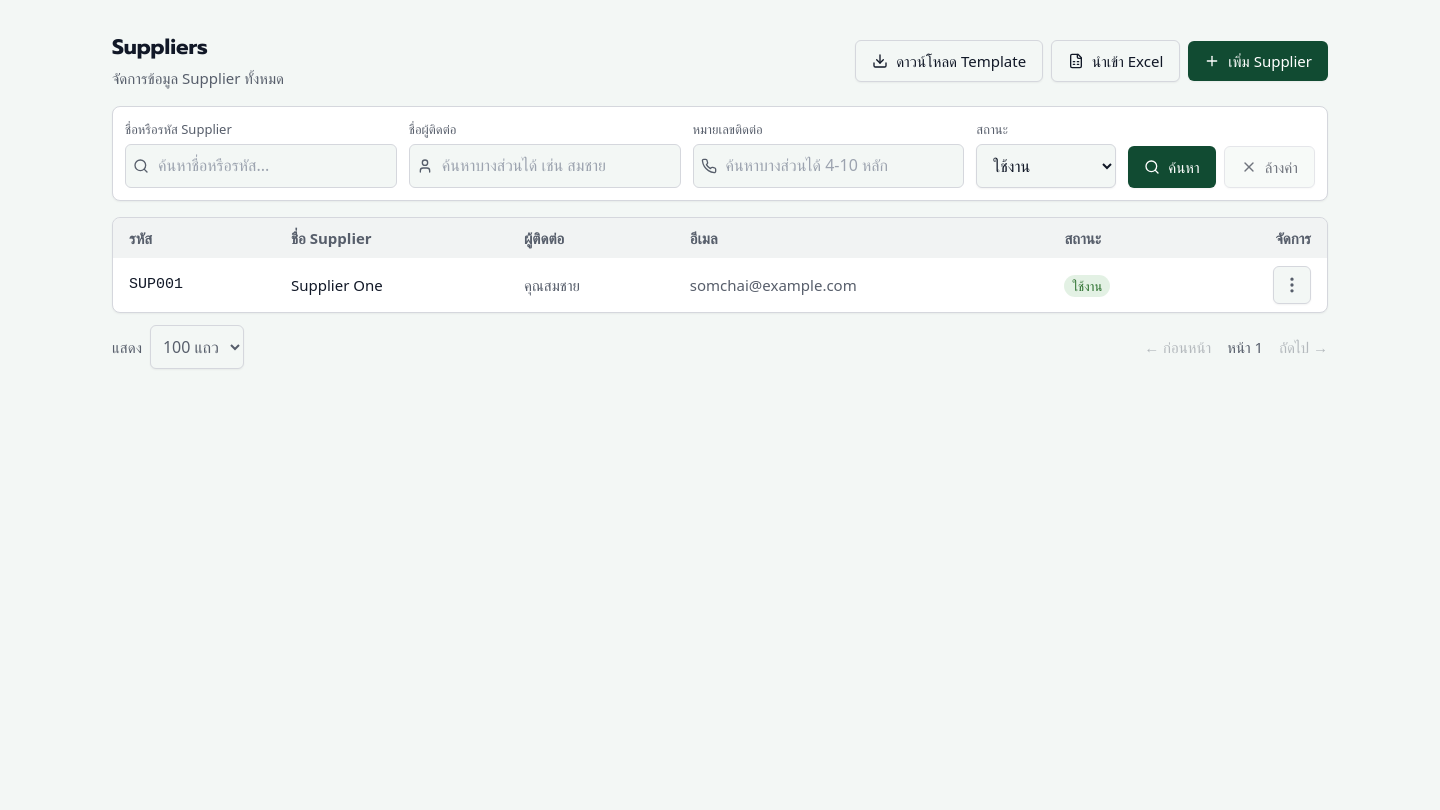
Test: Suppliers — rows-per-page selector (100 / 200 / 500 / ทั้งหมด) › pages through everything (chunked) when "ทั้งหมด" is selected
Expected: the text "SUP001" is shown, [113, 258, 275, 312]
Select "ทั้งหมด" in the dropdown labelled "แสดง". click: (197, 347)
box: [150, 325, 244, 369]
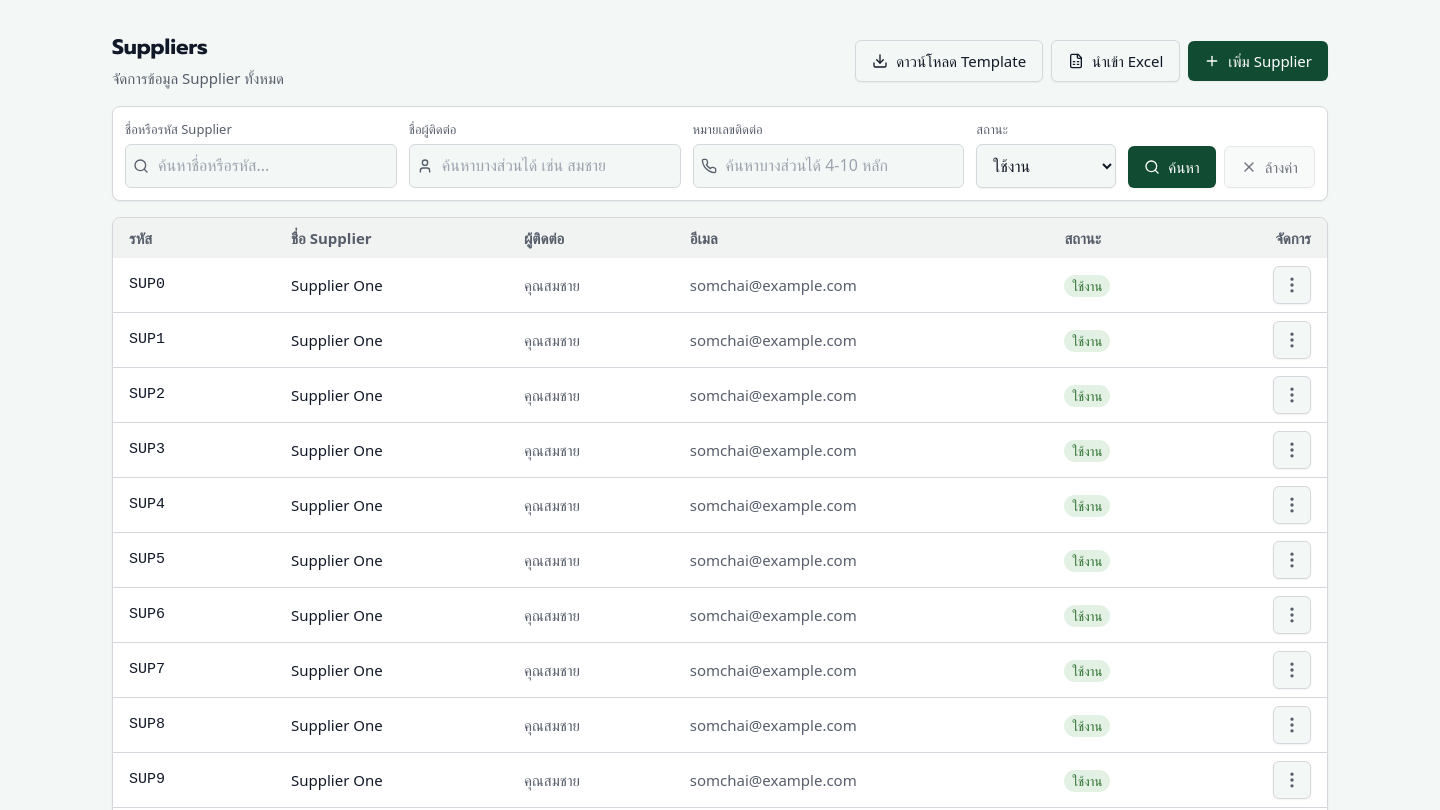
Now the button "ถัดไป →" is gone
